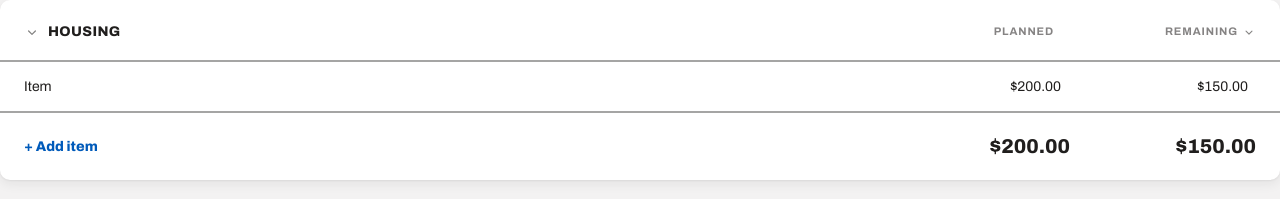
BudgetGroupCard metric dropdown › switches the line item and footer figures when a menu option is selected
Expected: the text "$150.00" is shown 2 times, [1197,78,1248,94]; [1176,135,1256,157]
Click the button "Remaining" at [1171, 32], box [1086,24,1256,40]
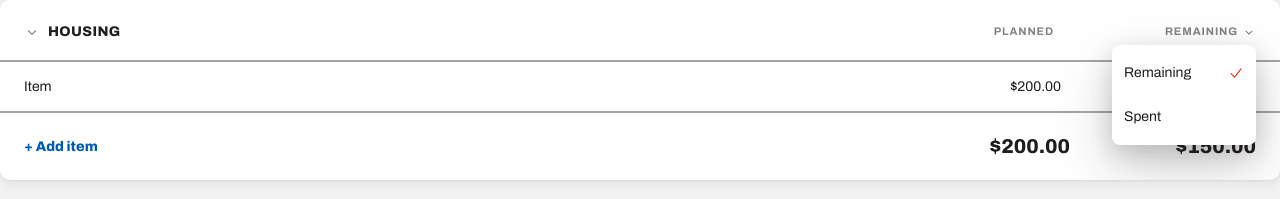
Click the menu item "Spent" at [1184, 116], box [1112,94,1256,138]
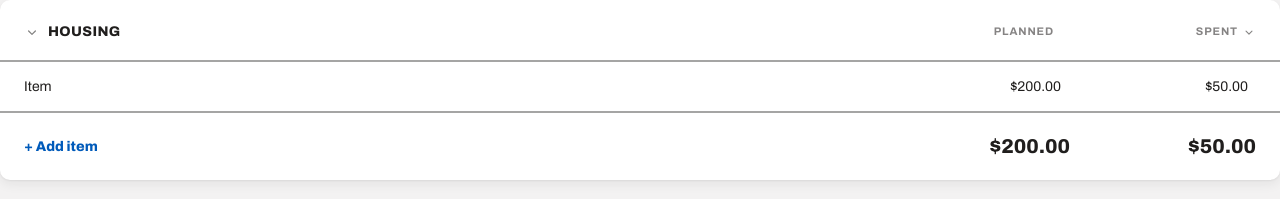
Expected: the text "$50.00" is shown 2 times, [1205,78,1248,94]; [1188,135,1256,157]
Expected: the text "$150.00" is gone
